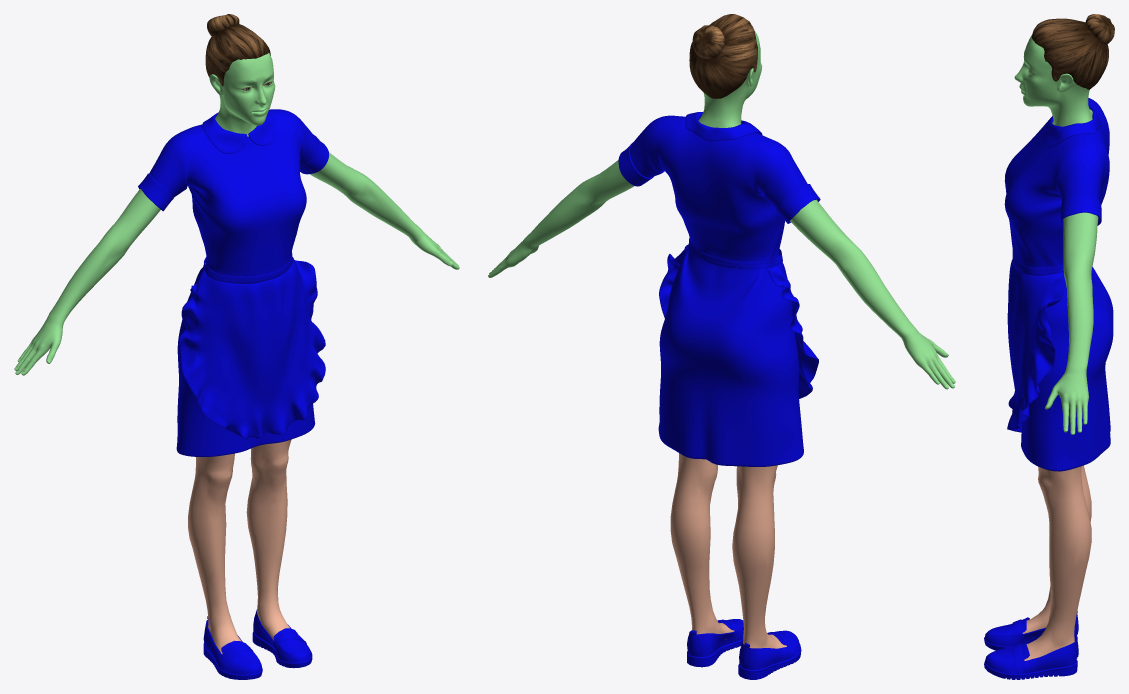
Rendered from uploads_files_3048885_House_Made_final.fbx.
3 renders of one model, left to right at view 1: azimuth 30°, elevation 25°; view 2: azimuth 150°, elevation 25°; view 3: azimuth 270°, elevation 25°, orthographic. The views are drawn at different scales.
Visible parts, largest first — view 1: Merged_CC_Base_Body63, Cloth, Cloth_3, Shoe, Hair_LP, Corall, Cloth_2, Cloth_4; view 2: Cloth, Merged_CC_Base_Body63, Shoe, Hair_LP, Cloth_3, Cloth_2, Corall, Hair_2_LP, Cloth_4; view 3: Cloth, Merged_CC_Base_Body63, Cloth_3, Shoe, Hair_LP, Corall, Cloth_2, Hair_2_LP, Cloth_4.
Boxes of the visible parts, x1=… form: Merged_CC_Base_Body63: x1=14, y1=52, x2=459, y2=653; Cloth: x1=149, y1=109, x2=318, y2=457; Cloth_3: x1=179, y1=257, x2=325, y2=438; Shoe: x1=203, y1=609, x2=312, y2=679; Hair_LP: x1=205, y1=23, x2=270, y2=86; Corall: x1=202, y1=112, x2=275, y2=153; Cloth_2: x1=138, y1=134, x2=329, y2=211; Cloth_4: x1=203, y1=253, x2=293, y2=283; Cloth: x1=630, y1=115, x2=807, y2=466; Merged_CC_Base_Body63: x1=488, y1=31, x2=955, y2=648; Shoe: x1=687, y1=619, x2=801, y2=679; Hair_LP: x1=689, y1=14, x2=757, y2=98; Cloth_3: x1=659, y1=244, x2=818, y2=398; Cloth_2: x1=618, y1=142, x2=820, y2=223; Corall: x1=685, y1=112, x2=762, y2=141; Hair_2_LP: x1=692, y1=25, x2=724, y2=58; Cloth_4: x1=688, y1=238, x2=782, y2=269; Cloth: x1=1004, y1=98, x2=1113, y2=471; Merged_CC_Base_Body63: x1=1014, y1=35, x2=1098, y2=660; Cloth_3: x1=1007, y1=259, x2=1066, y2=432; Shoe: x1=984, y1=611, x2=1078, y2=679; Hair_LP: x1=1031, y1=18, x2=1108, y2=89; Corall: x1=1045, y1=105, x2=1100, y2=147; Cloth_2: x1=1060, y1=196, x2=1101, y2=225; Hair_2_LP: x1=1085, y1=14, x2=1114, y2=44; Cloth_4: x1=1012, y1=250, x2=1063, y2=275.
Bounding box in the file's own units: 135 × 181 × 33.46.
